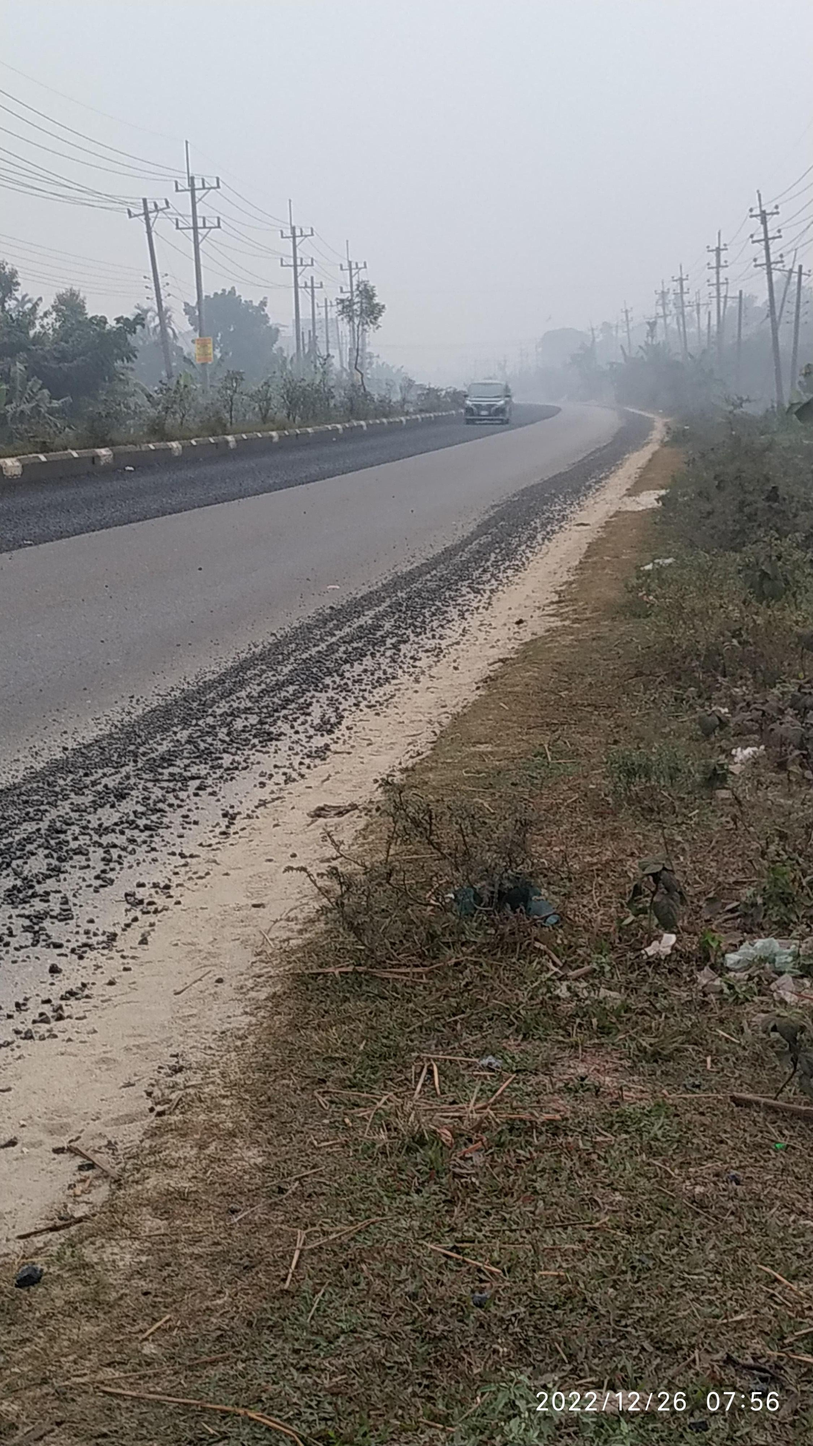Car: (444, 357, 521, 446)
